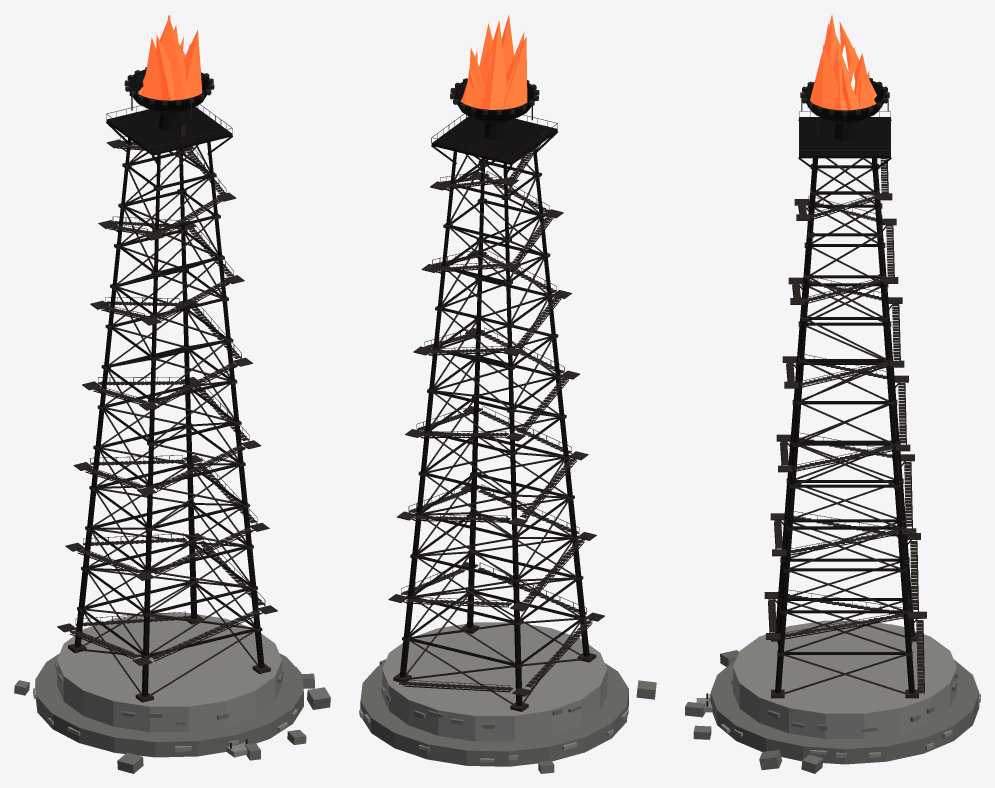
Rendered from lake_beacon_lit.glb.
The picture shows the model from 3 angles, left to right: view 1: azimuth 30°, elevation 25°; view 2: azimuth 150°, elevation 25°; view 3: azimuth 270°, elevation 25°; orthographic projection.
Parts seen in each view (by area): view 1: lake_beacon_lit; view 2: lake_beacon_lit; view 3: lake_beacon_lit.
Boxes of the visible parts, <box> form: lake_beacon_lit: <box>14,15,330,773</box>; lake_beacon_lit: <box>359,15,656,773</box>; lake_beacon_lit: <box>685,14,980,773</box>.
Size of the model in its own units: 50.91 by 137 by 52.83.
